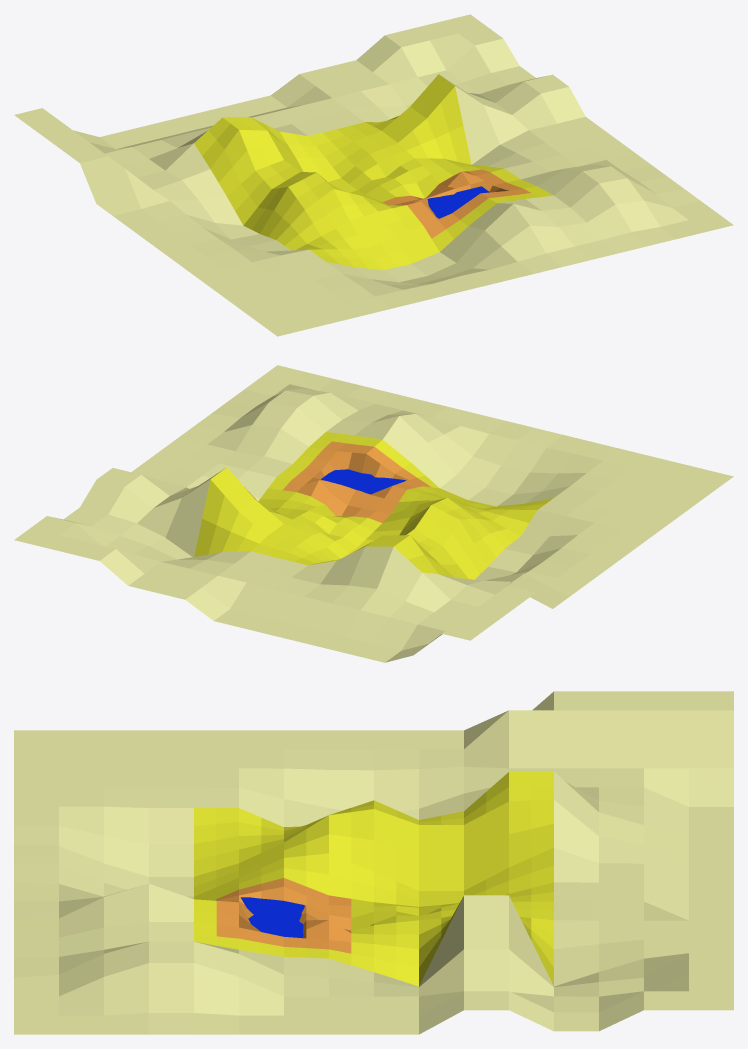
Rendered from terrain_desert.glb.
The picture shows the model from 3 angles, top to bottom: view 1: azimuth 30°, elevation 25°; view 2: azimuth 150°, elevation 25°; view 3: azimuth 270°, elevation 25°; orthographic projection. The views are drawn at different scales.
Parts seen in each view (by area): view 1: blocked_area, desert, fertile_land, water; view 2: blocked_area, desert, fertile_land, water; view 3: blocked_area, desert, fertile_land, water.
Boxes of the visible parts, bbox=[...] form: blocked_area: bbox=[14, 14, 733, 336]; desert: bbox=[194, 74, 553, 270]; fertile_land: bbox=[382, 169, 530, 238]; water: bbox=[427, 186, 489, 218]; blocked_area: bbox=[14, 365, 733, 662]; desert: bbox=[194, 432, 553, 579]; fertile_land: bbox=[282, 441, 430, 522]; water: bbox=[321, 469, 405, 494]; blocked_area: bbox=[14, 691, 733, 1034]; desert: bbox=[194, 771, 553, 986]; fertile_land: bbox=[216, 878, 351, 953]; water: bbox=[240, 897, 304, 938].
Size of the model in its own units: 400 by 60.05 by 400.
